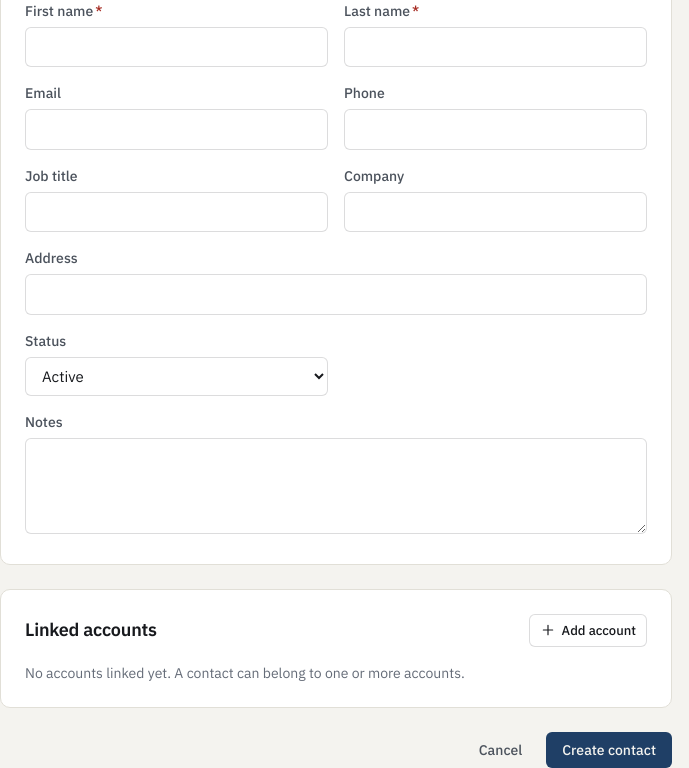
it: ContactFormPage › create mode › requires both names before submitting
The image size is (689, 768).
(page scrolled)
Click the button "Create contact".
click(609, 750)  # box [546,732,672,767]
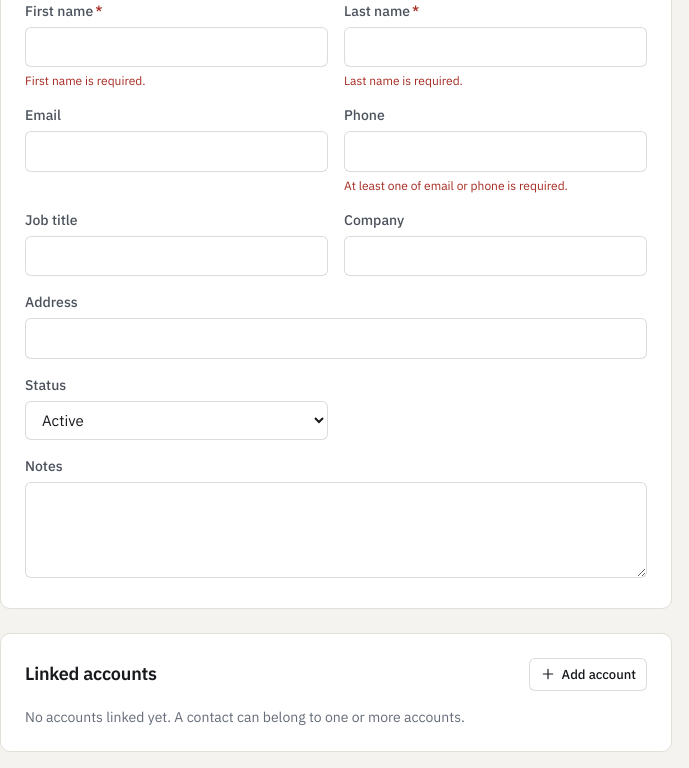
Expected: the text "First name is required." is shown, [25,73,146,88]
Expected: the text "Last name is required." is shown, [344,73,463,88]
Expected: the text "At least one of email or phone is required." is shown, [344,178,568,192]
